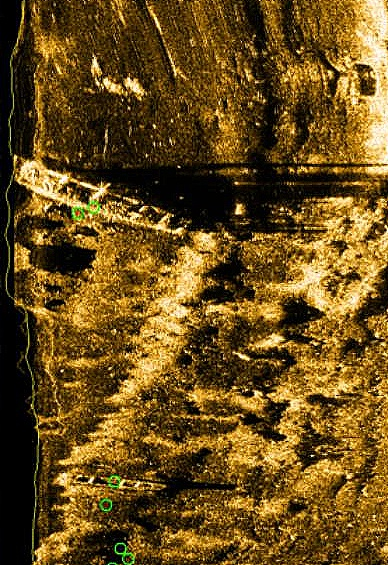ship: (11, 152, 194, 235), (49, 469, 169, 493)
